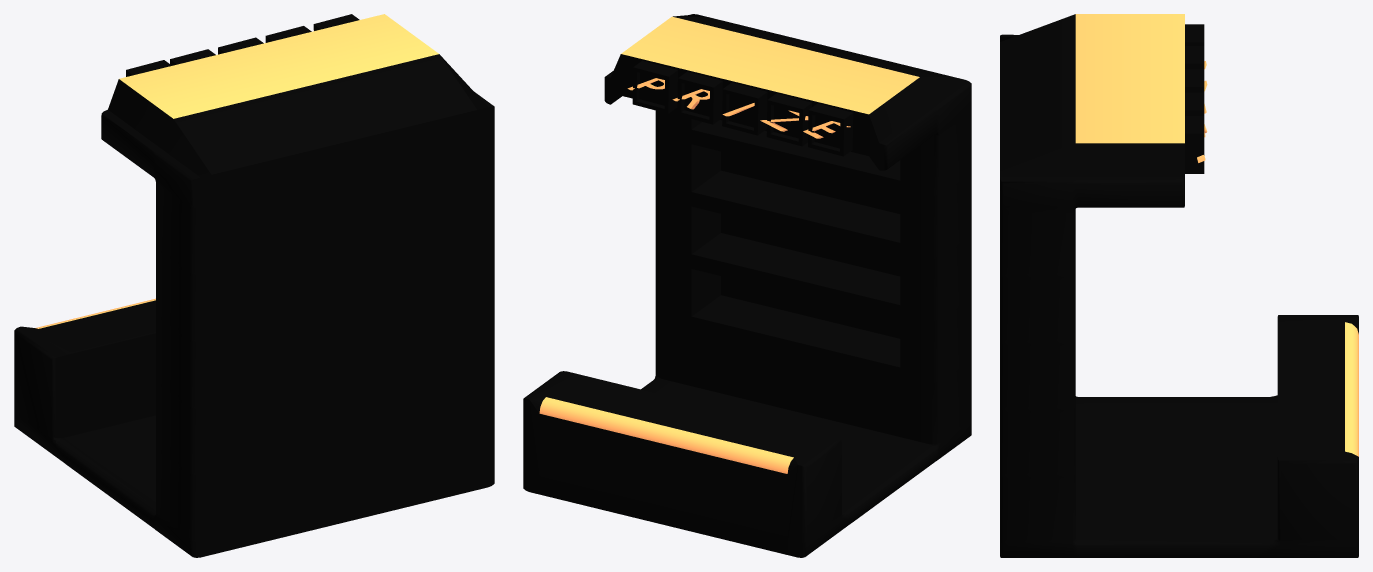
File: prizecounter 1.fbx
The picture shows the model from 3 angles, left to right: view 1: azimuth 30°, elevation 25°; view 2: azimuth 150°, elevation 25°; view 3: azimuth 270°, elevation 25°; orthographic projection. The views are drawn at different scales.
Visible parts, largest first — view 1: Cube.006; view 2: Cube.006; view 3: Cube.006.
Boxes of the visible parts, x1=… form: Cube.006: x1=14, y1=14, x2=494, y2=557; Cube.006: x1=523, y1=14, x2=971, y2=557; Cube.006: x1=1000, y1=14, x2=1358, y2=557.
Size of the model in its own units: 491 by 630 by 503.
